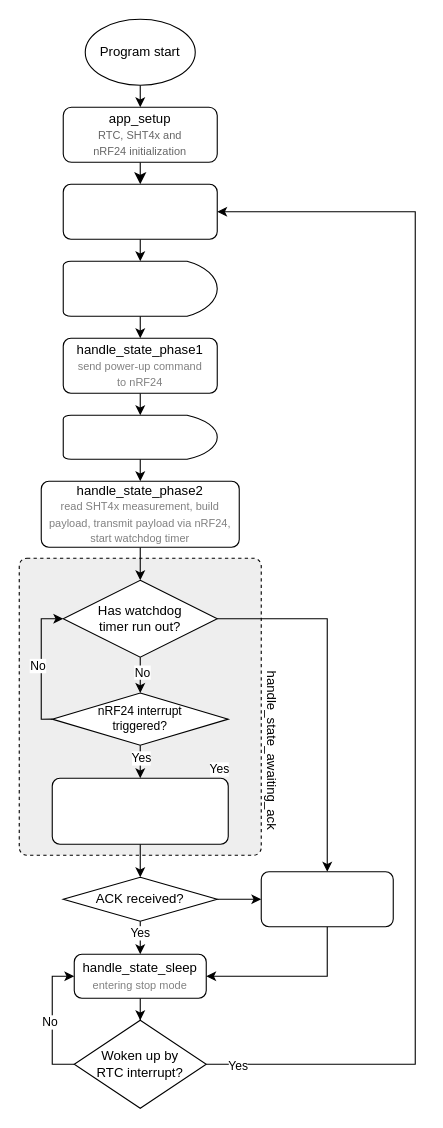
Image size: 443x1128. Some labels were removed from this diagram. The centre of each missing label's shape, as x and y in pixels:
disable watchdog timer, read nRF24 IRQ flags, send power-down command to nRF24: the point at 139,810
handle_state_errror dummy state, currently does nothing: the point at 326,899
handle_state_idle SHT4x conversion started, VDDA measured via ADC: the point at 139,211
sleep for 1.5 ms (nRF24 power-up time): the point at 139,436
sleep for 6.7 ms (SHT4x measurement time - nRF24 power-up time): the point at 139,288
